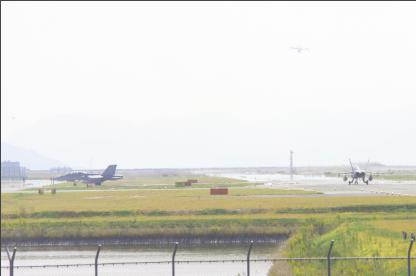F15: (324, 156, 394, 184), (52, 163, 122, 185)
Tu95: (288, 44, 310, 52)
